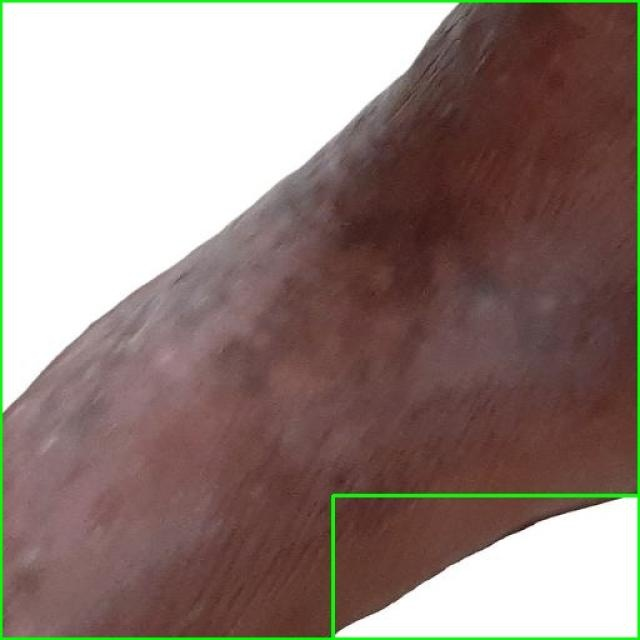Eczema: (0, 0, 639, 639), (332, 495, 639, 639)
